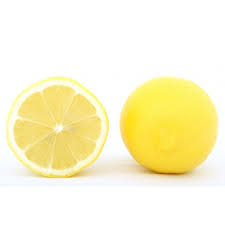lemon: (117, 75, 224, 184)
